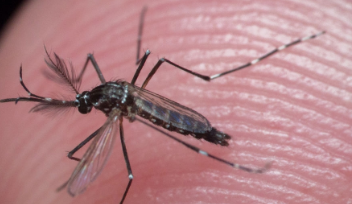dengue_mosquito: (1, 42, 263, 200)
